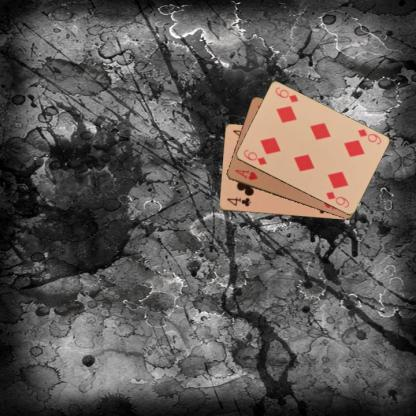4c: (224, 194, 252, 209)
6d: (240, 146, 268, 166), (354, 126, 382, 146)
Ah: (232, 166, 259, 182)
